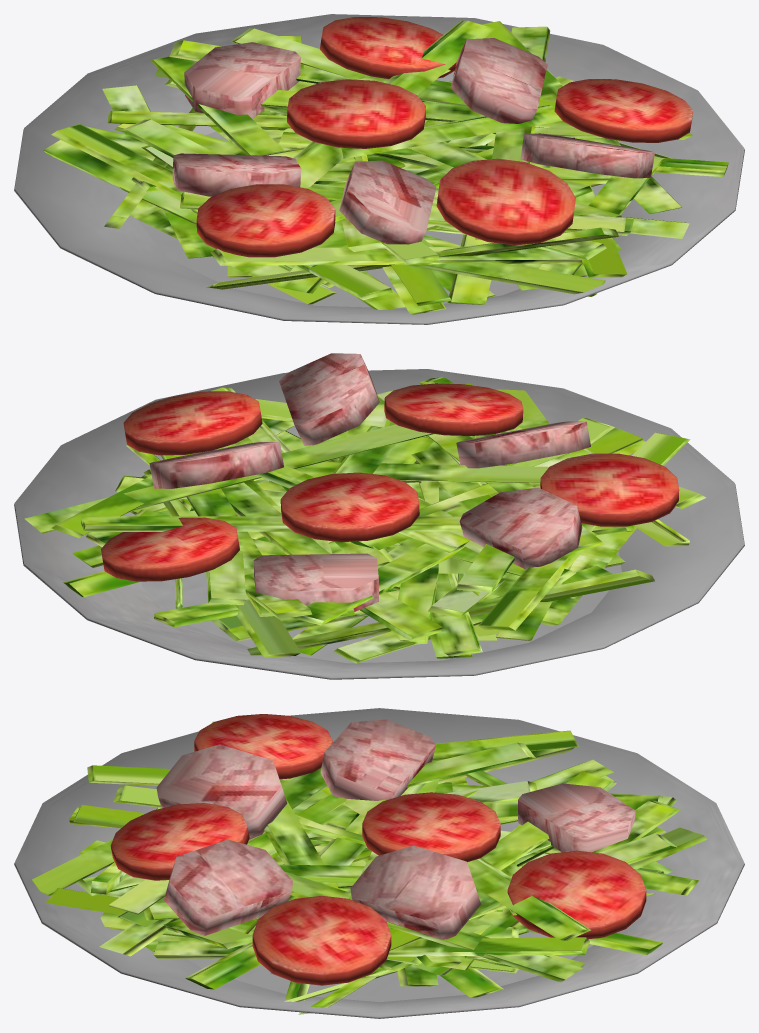
File: tuna_salad_plate.fbx
3 renders of one model, top to bottom at view 1: azimuth 30°, elevation 25°; view 2: azimuth 150°, elevation 25°; view 3: azimuth 270°, elevation 25°, orthographic.
Visible parts, largest first — view 1: SM_SilentSalad; view 2: SM_SilentSalad; view 3: SM_SilentSalad.
Part boxes in pixels (bbox=[...]): SM_SilentSalad: bbox=[14, 14, 744, 324]; SM_SilentSalad: bbox=[14, 353, 744, 679]; SM_SilentSalad: bbox=[14, 708, 744, 1018].
Size of the model in its own units: 21.77 by 3.4 by 21.77.
